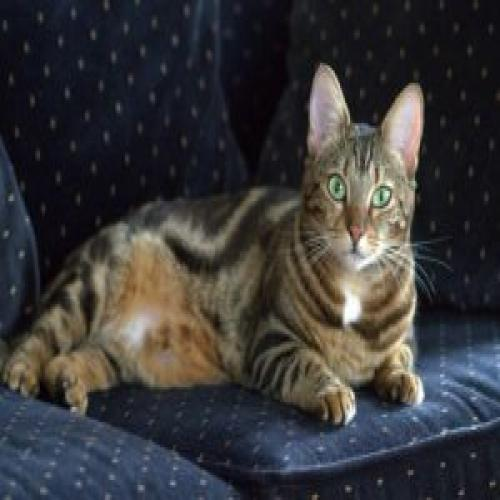bengal: (301, 55, 427, 286)
